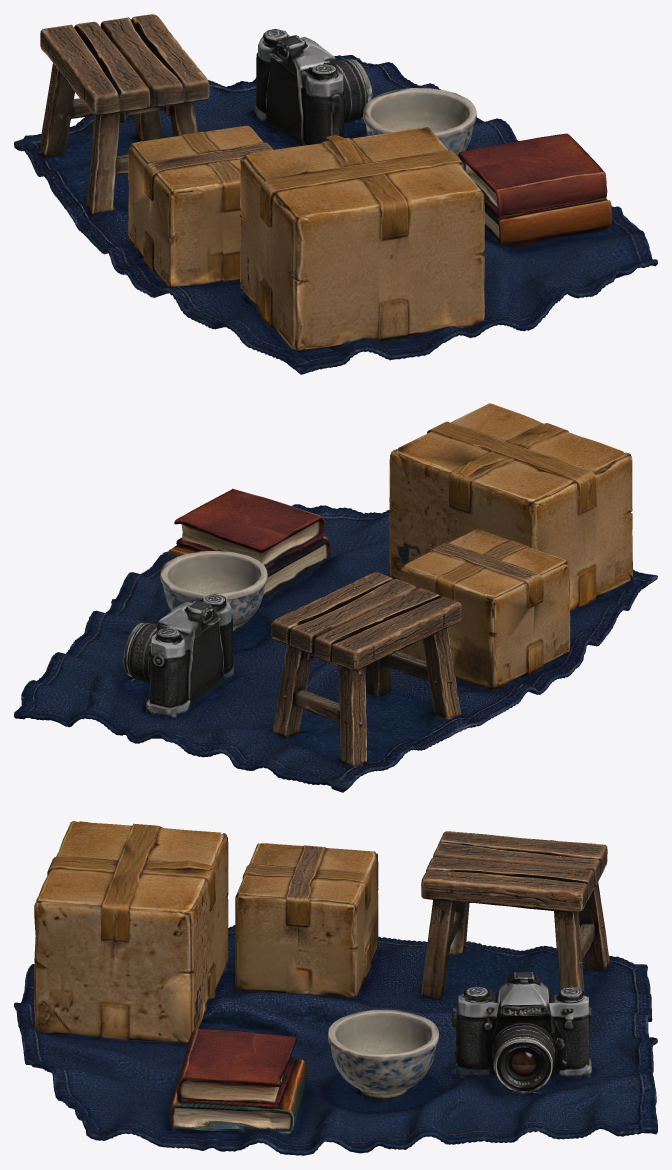
Rendered from level-0-web.glb.
3 renders of one model, top to bottom at view 1: azimuth 30°, elevation 25°; view 2: azimuth 150°, elevation 25°; view 3: azimuth 270°, elevation 25°, orthographic. The views are drawn at different scales.
Parts seen in each view (by area): view 1: tripo_node_058df9b3-5e0f-4629-be6f-3d87cc27c201; view 2: tripo_node_058df9b3-5e0f-4629-be6f-3d87cc27c201; view 3: tripo_node_058df9b3-5e0f-4629-be6f-3d87cc27c201.
Part boxes in pixels (box(x1,y1,x2,y2)): tripo_node_058df9b3-5e0f-4629-be6f-3d87cc27c201: box(14, 14, 657, 374); tripo_node_058df9b3-5e0f-4629-be6f-3d87cc27c201: box(14, 403, 657, 792); tripo_node_058df9b3-5e0f-4629-be6f-3d87cc27c201: box(14, 821, 657, 1155).
Bounding box in the file's own units: 0.7796 × 0.2559 × 0.9805.
Materials: 1 (1 with a texture image).
